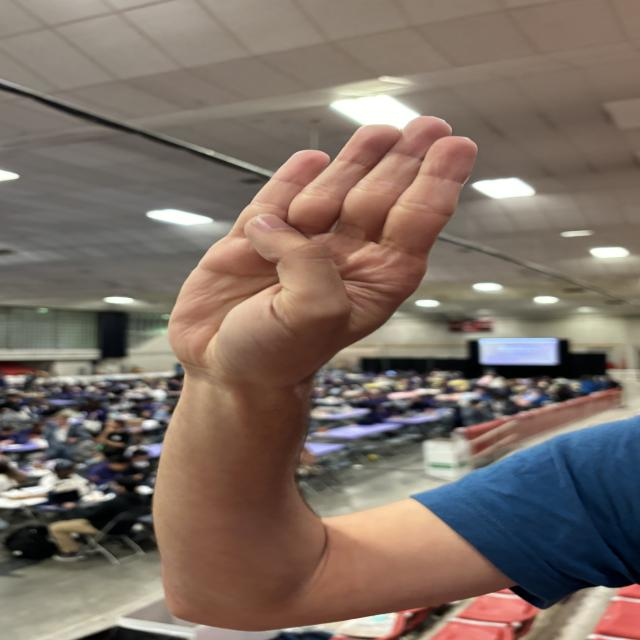B: (182, 107, 495, 383)
